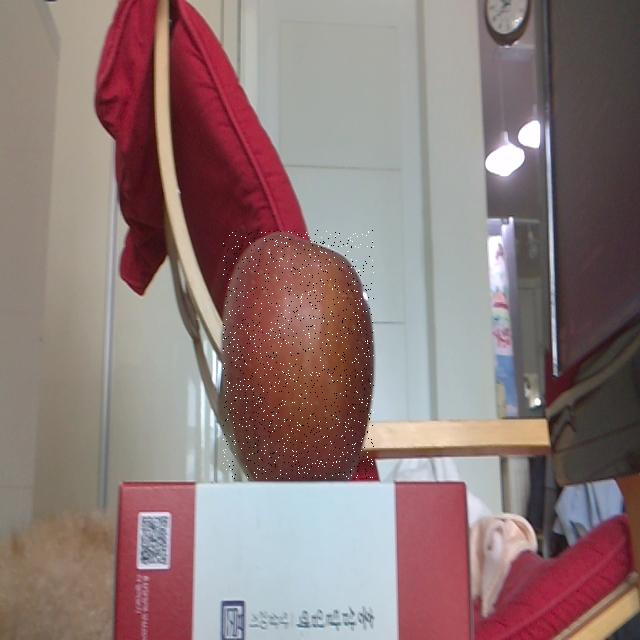apple: (223, 230, 374, 479)
